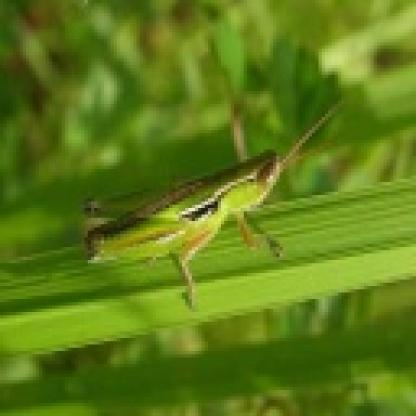grasshopper: (80, 111, 328, 303)
